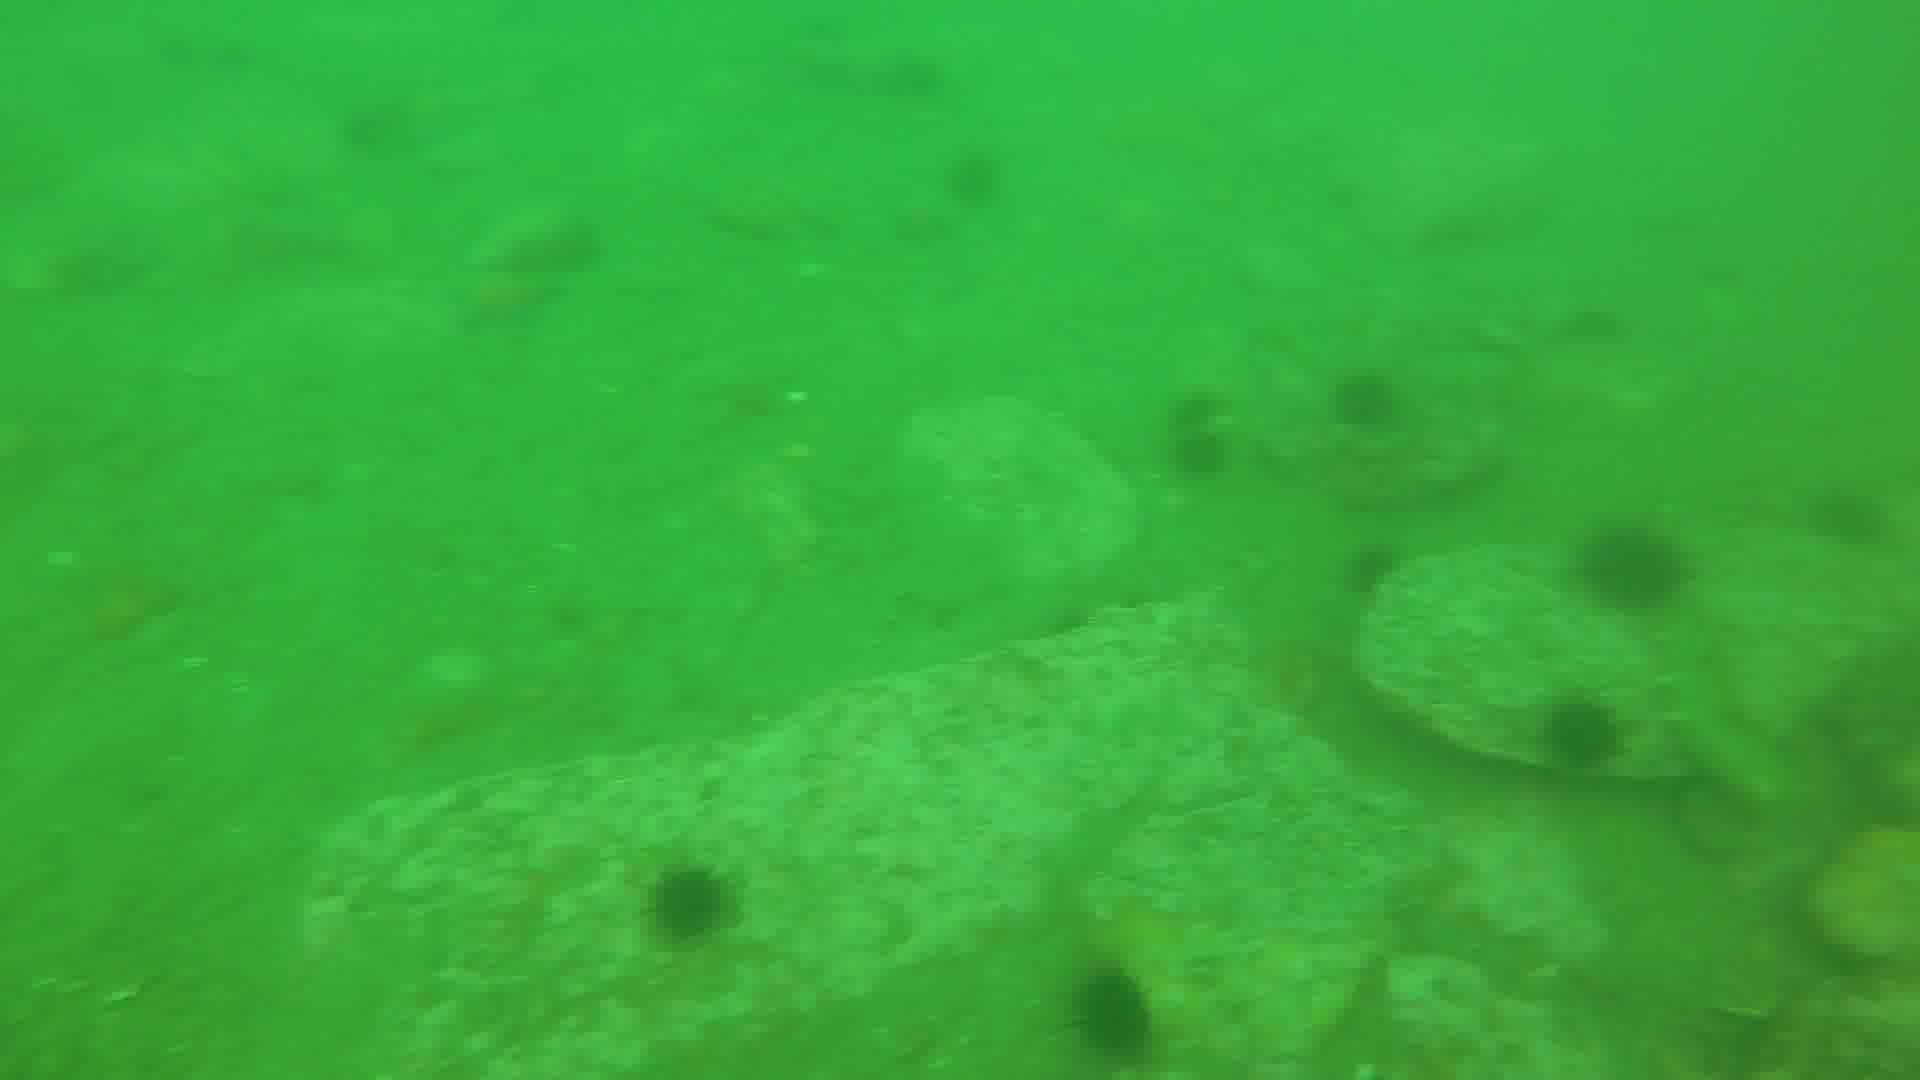echinus: (1580, 521, 1692, 605), (645, 858, 753, 945), (1062, 971, 1156, 1062), (1174, 393, 1238, 477), (1335, 375, 1406, 431), (1557, 696, 1615, 758), (1341, 550, 1408, 593)
holothurian: (1650, 612, 1789, 804)
